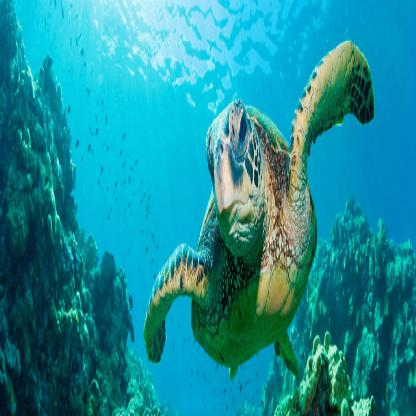turtle: (203, 87, 268, 269)
